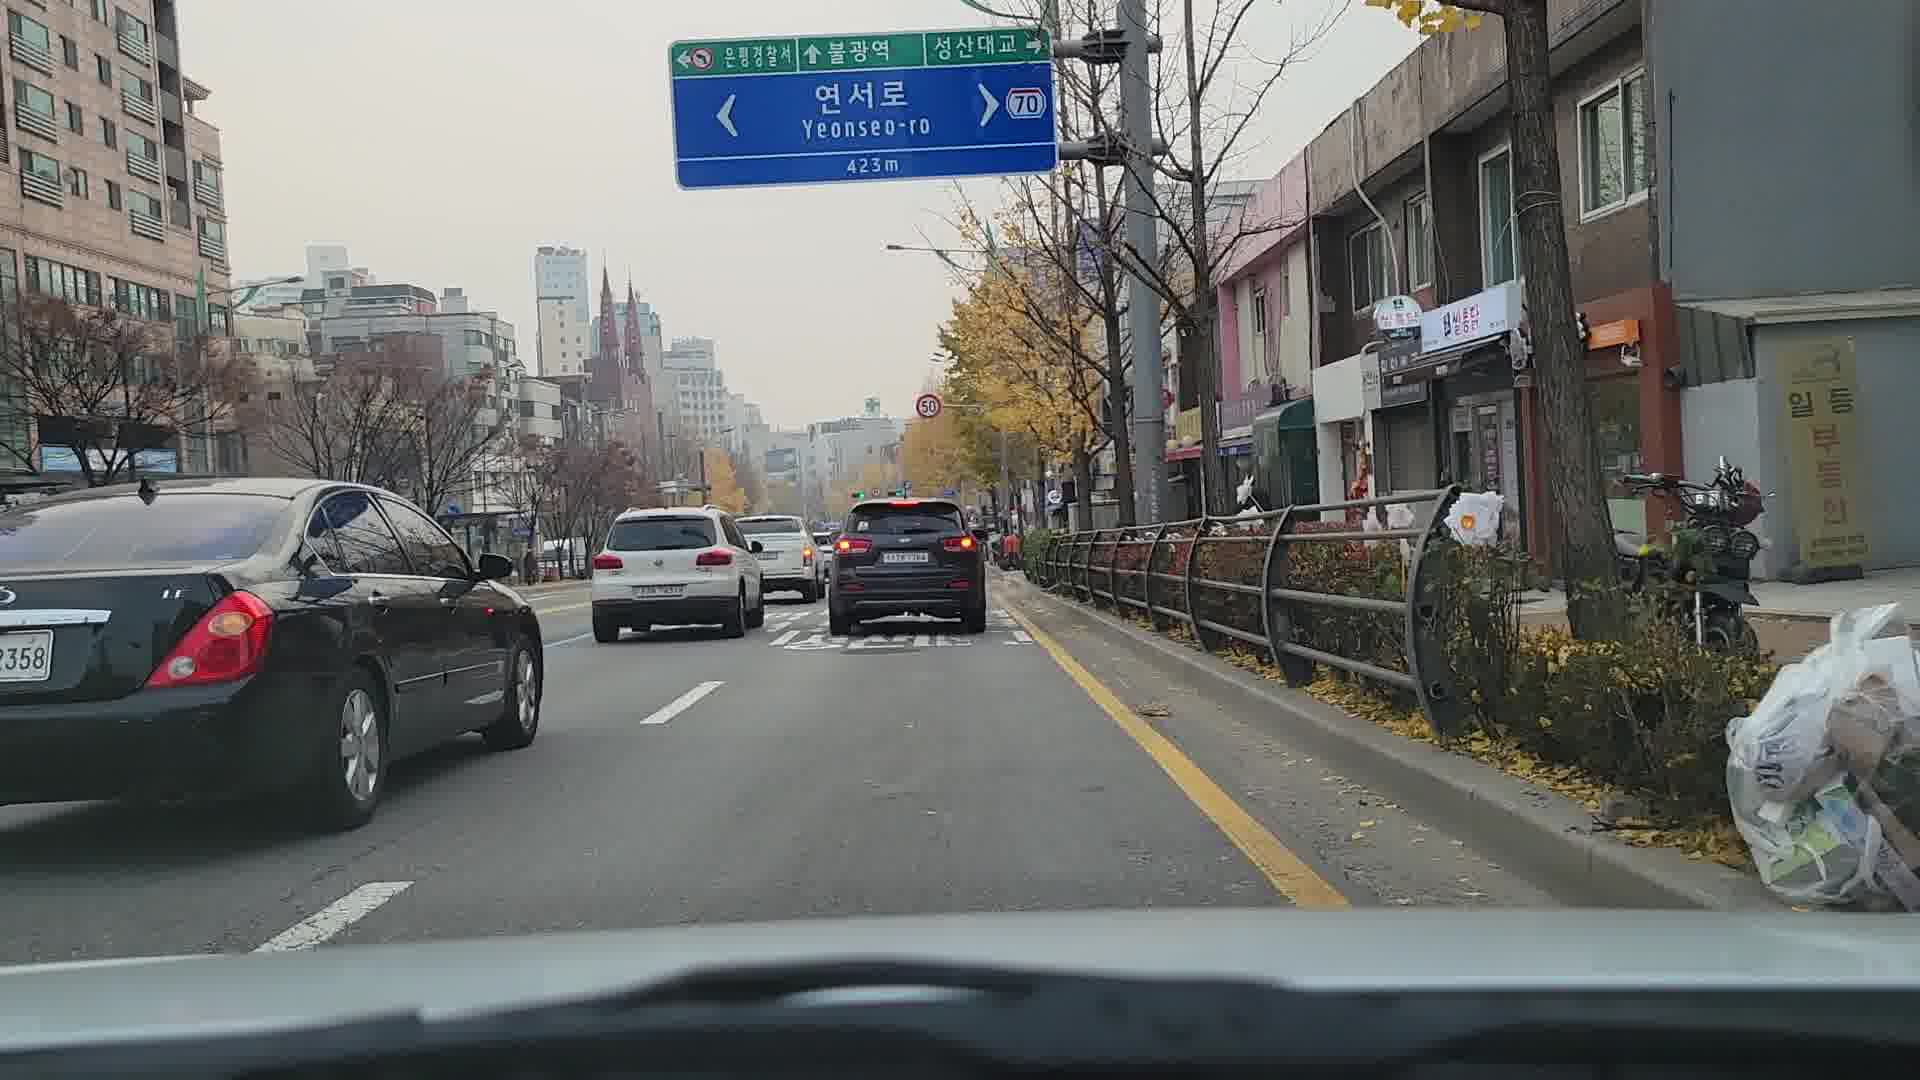car: (0, 473, 551, 837), (588, 505, 771, 644), (737, 520, 825, 601)
motorcycle: (1615, 459, 1771, 593)
truck: (819, 496, 984, 633)
